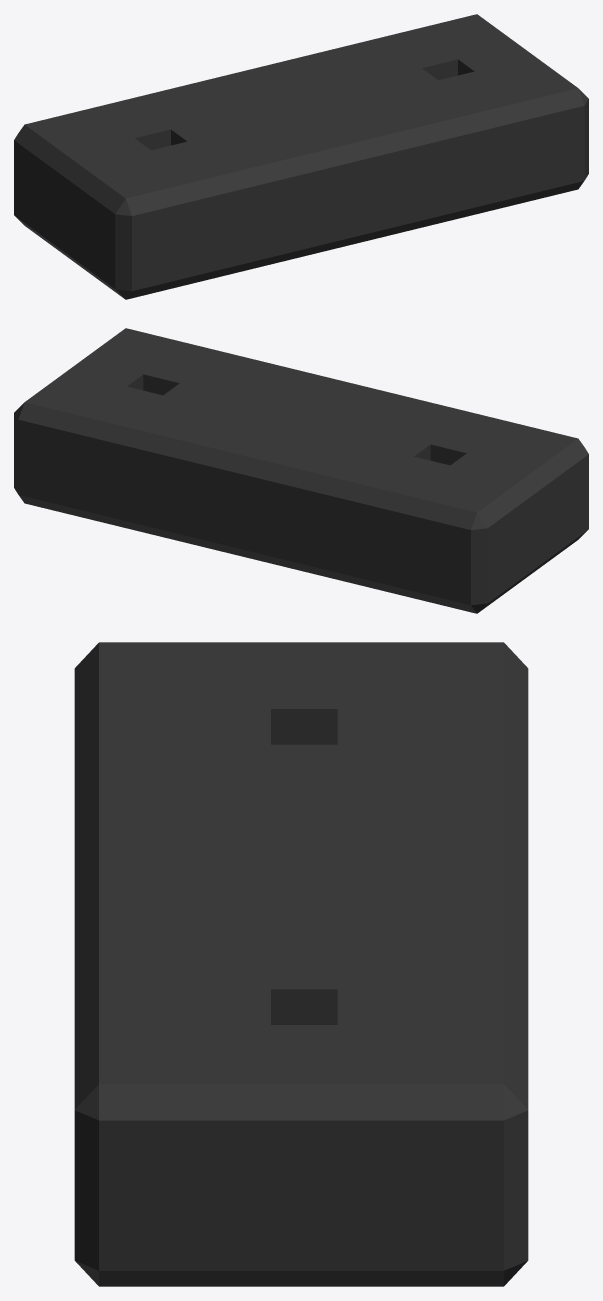
The model's file is weight-d.glb.
3 views of the same model, one above another, from view 1: azimuth 30°, elevation 25°; view 2: azimuth 150°, elevation 25°; view 3: azimuth 270°, elevation 25° (orthographic). The views are drawn at different scales.
Visible parts, largest first — view 1: Weight_D; view 2: Weight_D; view 3: Weight_D.
Part boxes in pixels (x1=…): Weight_D: x1=14, y1=14, x2=588, y2=299; Weight_D: x1=14, y1=328, x2=588, y2=613; Weight_D: x1=74, y1=642, x2=528, y2=1286.
Bounding box in the file's own units: 30.76 × 6.28 × 12.76.
Materials: 1 (1 with a texture image).
